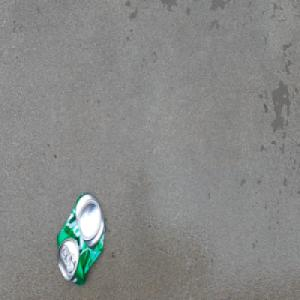SodaCan: (55, 190, 106, 288)
